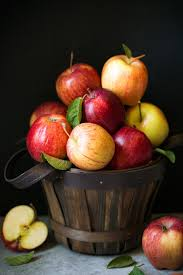apple: (31, 114, 77, 159), (100, 56, 148, 97), (141, 221, 183, 266), (128, 105, 170, 148), (71, 125, 111, 168), (80, 89, 125, 127), (113, 128, 153, 170), (58, 64, 100, 102)
damaged_apple: (2, 206, 48, 251)
